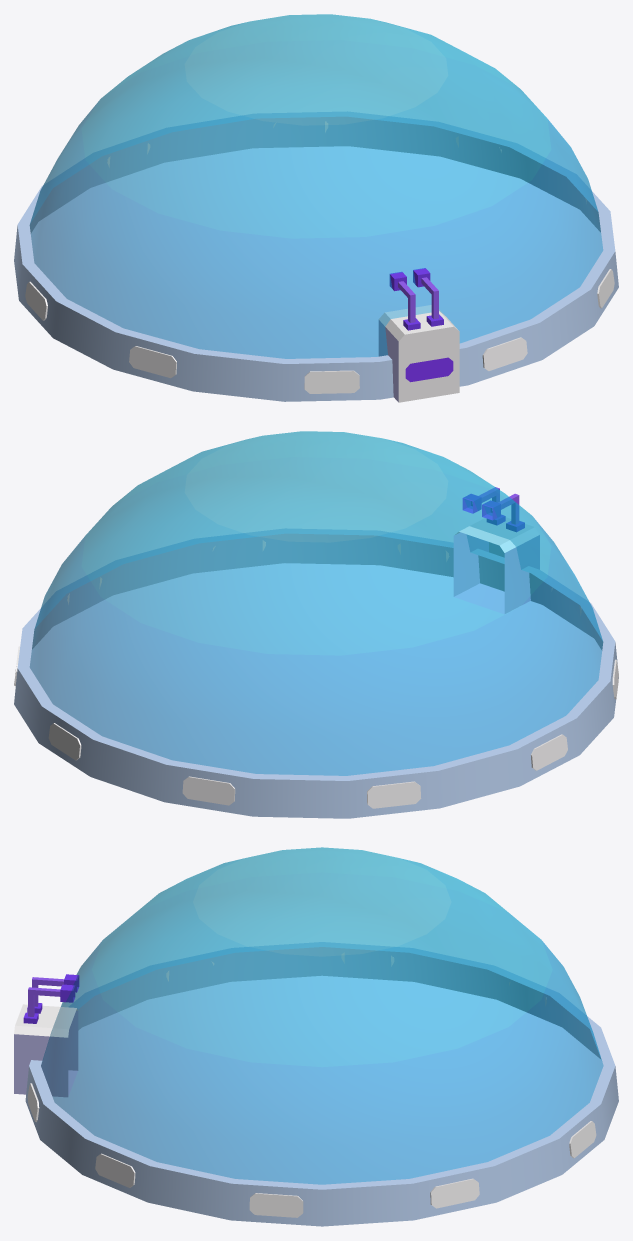
File: Building_046_a.fbx
The picture shows the model from 3 angles, top to bottom: view 1: azimuth 30°, elevation 25°; view 2: azimuth 150°, elevation 25°; view 3: azimuth 270°, elevation 25°; orthographic projection. The views are drawn at different scales.
Visible parts, largest first — view 1: Building_046_a; view 2: Building_046_a; view 3: Building_046_a.
Part boxes in pixels (left/top/right/bottom): Building_046_a: left=14, top=14, right=618, bottom=402; Building_046_a: left=14, top=431, right=618, bottom=818; Building_046_a: left=14, top=847, right=618, bottom=1226.
Size of the model in its own units: 29.74 by 12.36 by 30.32.
